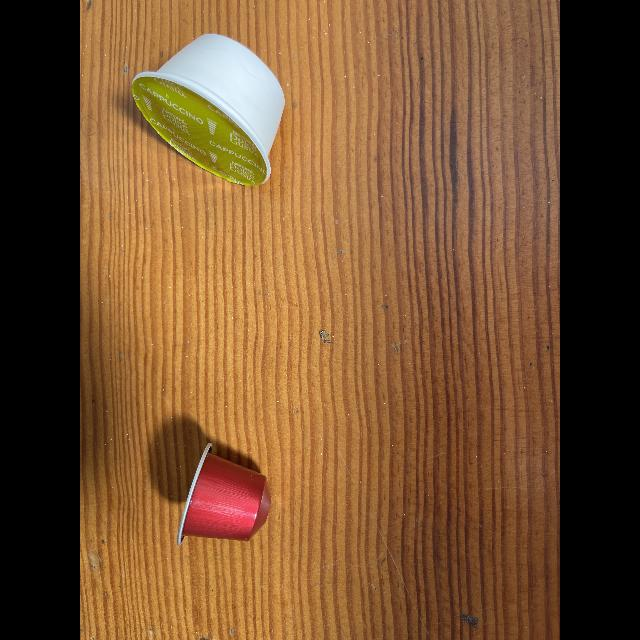intact_capsule: (119, 26, 299, 200), (166, 434, 276, 556)
